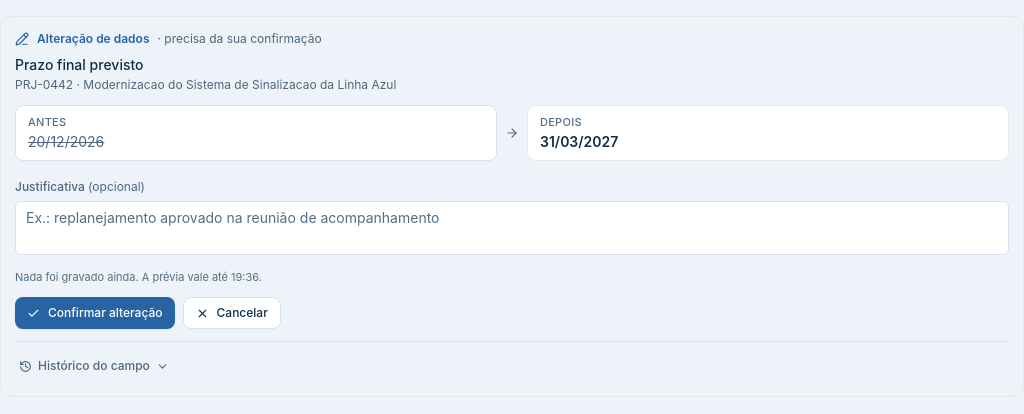
Test case: DataChangeCard › estado de erro final: mostra a mensagem do backend e não oferece repetir
Step 1. Click the button "Confirmar alteração" → (95, 313), box [15,297,174,329]
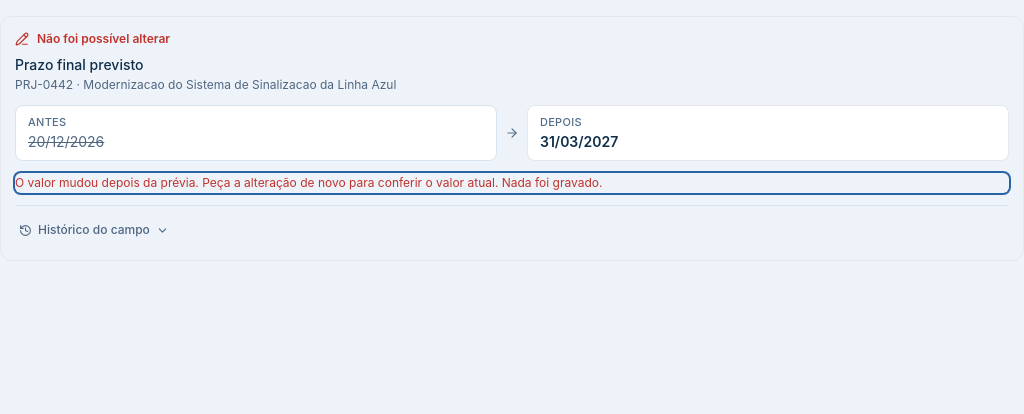
Now the message shows "O valor mudou depois da prévia", box [15,175,498,190]
Now the message shows "Nada foi gravado.", box [498,175,602,190]
Now the heading "Não foi possível alterar" is shown, box [15,31,170,46]
